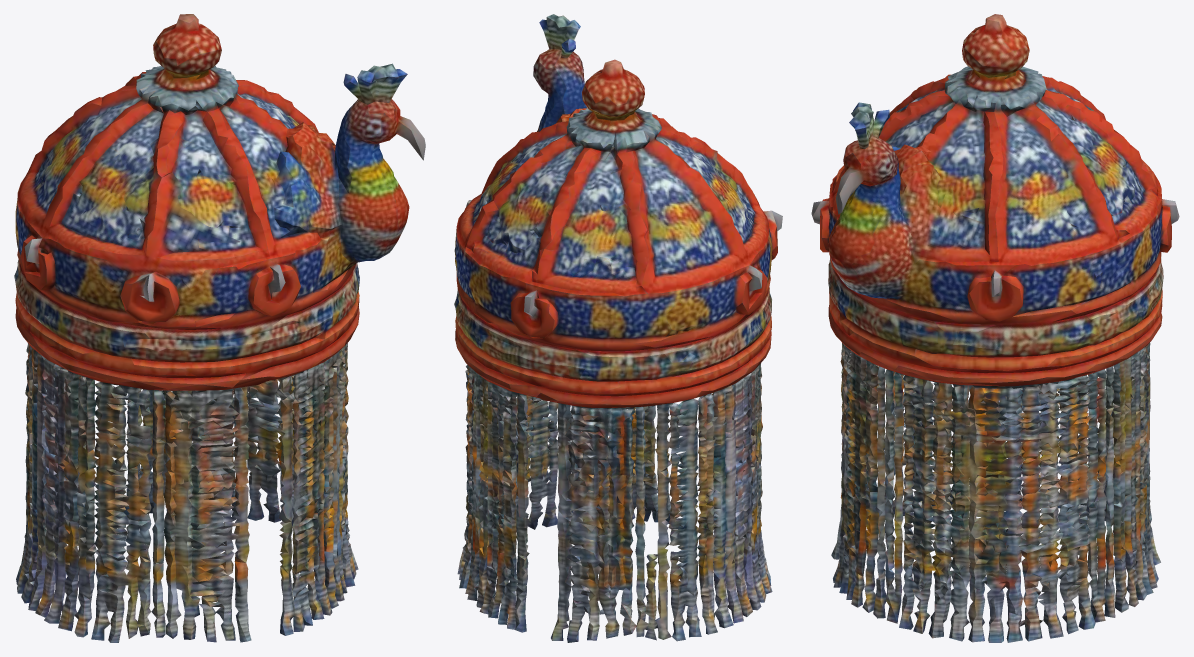
File: beaded_crown.glb
The picture shows the model from 3 angles, left to right: view 1: azimuth 30°, elevation 25°; view 2: azimuth 150°, elevation 25°; view 3: azimuth 270°, elevation 25°; orthographic projection. The views are drawn at different scales.
Parts seen in each view (by area): view 1: geometry_0; view 2: geometry_0; view 3: geometry_0.
Part boxes in pixels (box(x1,y1,x2,y2)): geometry_0: box(14, 14, 425, 642); geometry_0: box(454, 14, 782, 642); geometry_0: box(811, 14, 1179, 642).
Bounding box in the file's own units: 0.2676 × 0.45 × 0.2699.
1 material, 1 textured.
